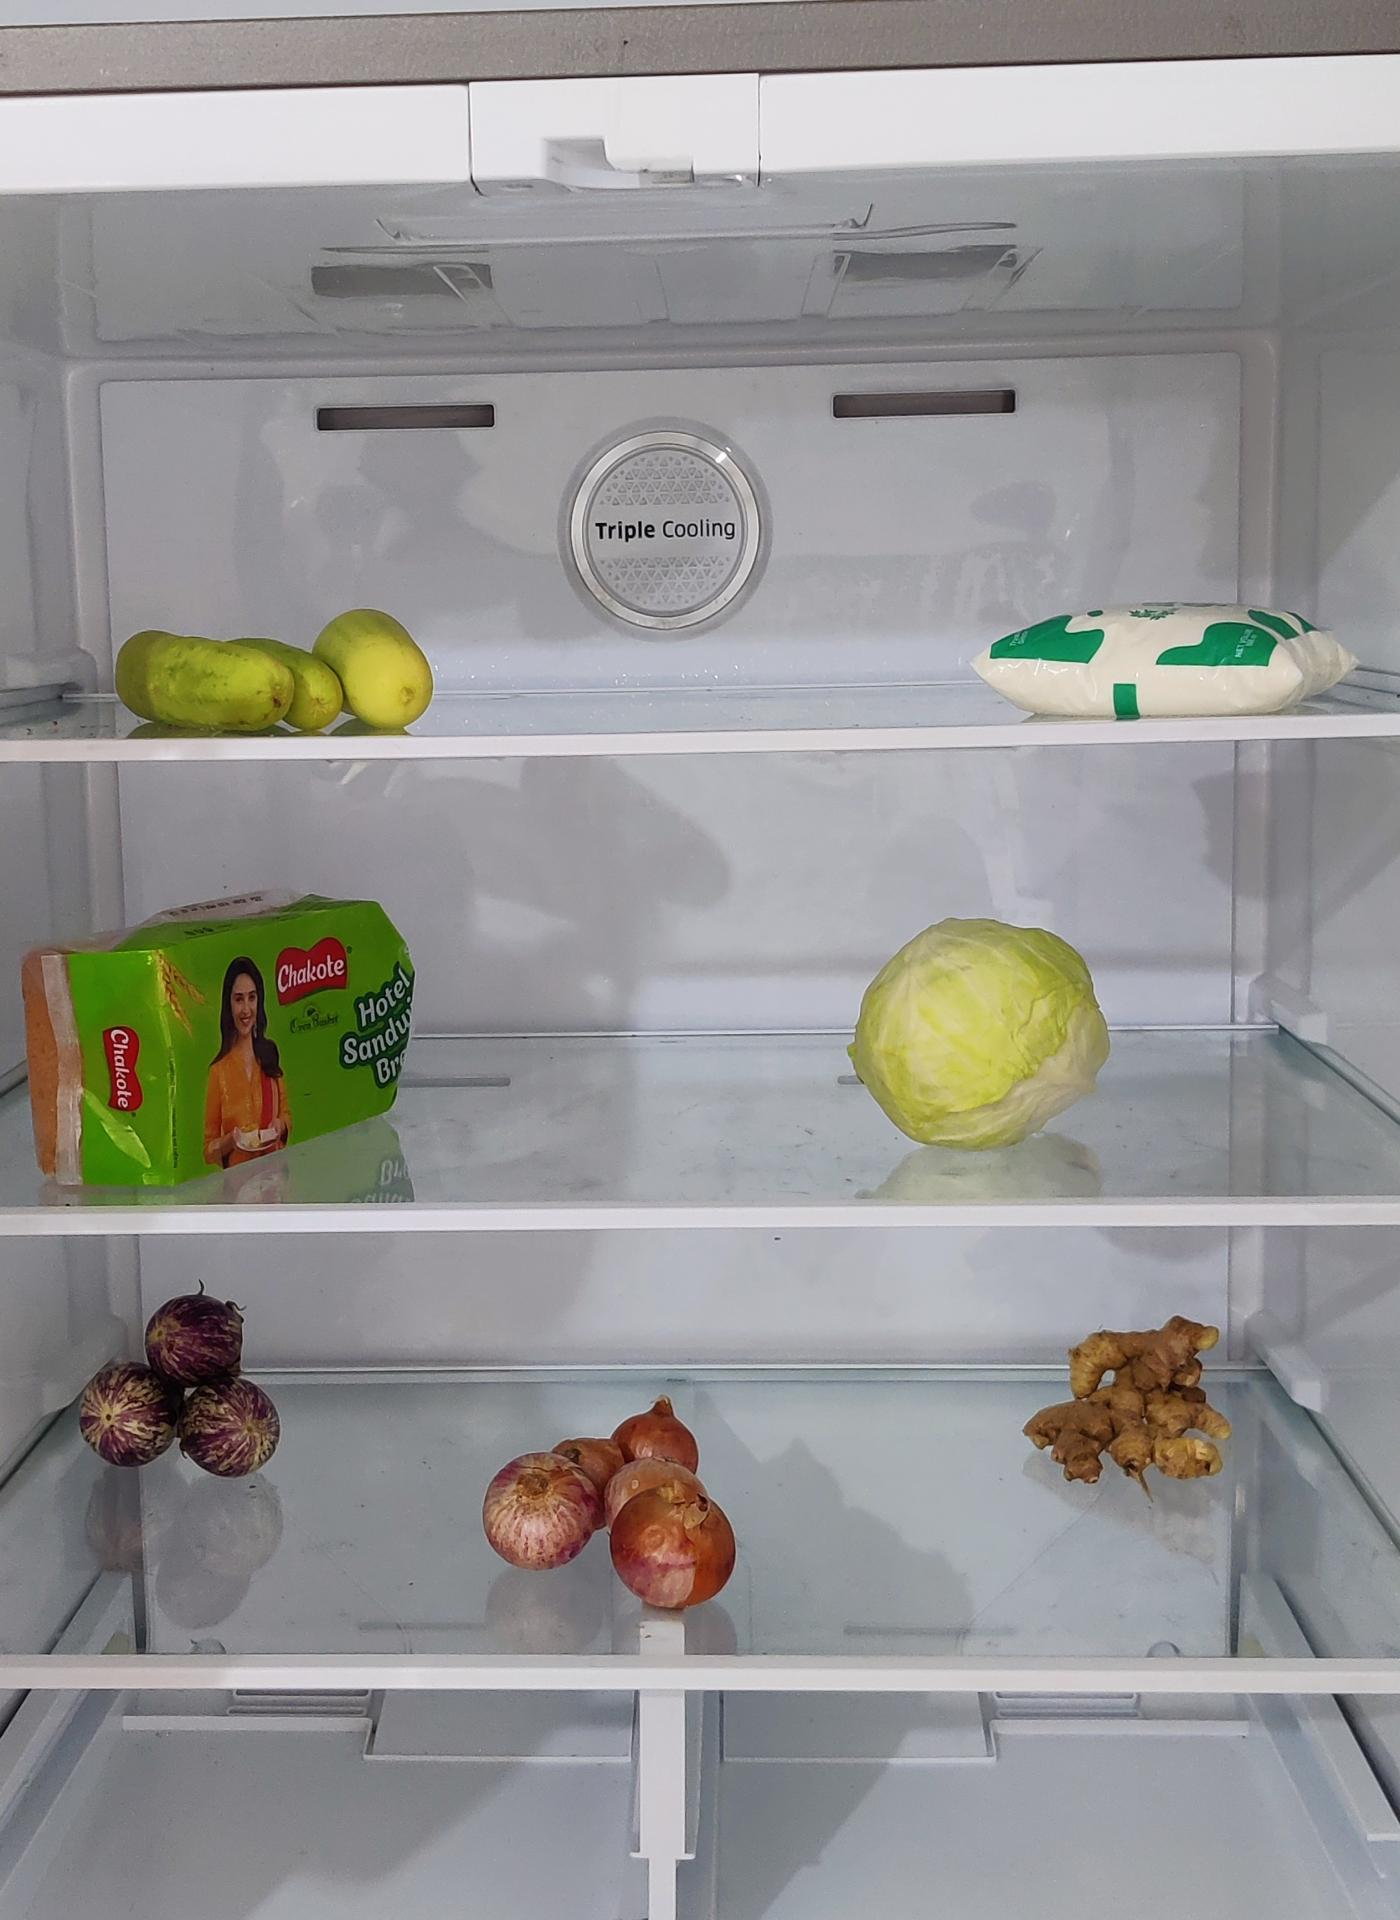bread: (16, 894, 422, 1188)
brinjal: (95, 1278, 285, 1483)
cabbage: (853, 921, 1118, 1157)
cucumber: (115, 607, 443, 730)
ginger: (1021, 1310, 1235, 1483)
milk: (968, 601, 1358, 723)
onion: (483, 1395, 741, 1608)
